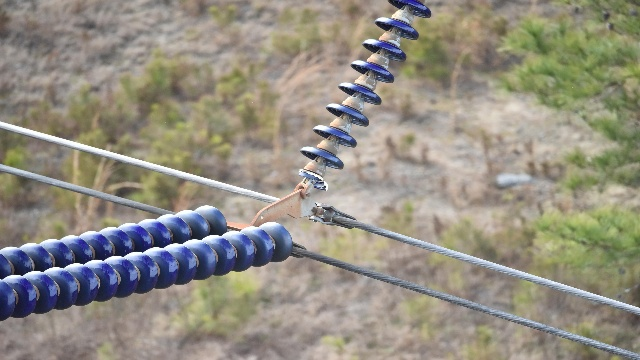broken_local: (297, 165, 330, 190)
insulator_unspecified: (0, 204, 294, 320), (293, 0, 431, 192)
